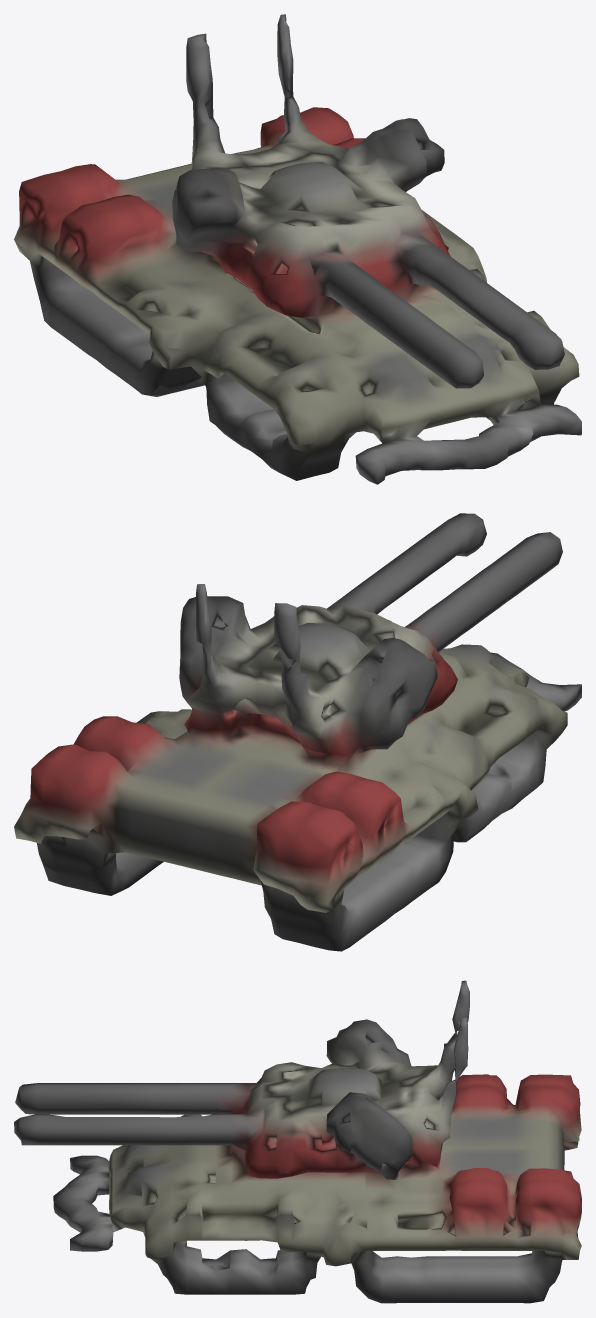
File: apocalypse_tank.glb
3 renders of one model, top to bottom at view 1: azimuth 30°, elevation 25°; view 2: azimuth 150°, elevation 25°; view 3: azimuth 270°, elevation 25°, orthographic. The views are drawn at different scales.
Visible parts, largest first — view 1: apocalypse_tank; view 2: apocalypse_tank; view 3: apocalypse_tank.
Boxes of the visible parts, x1,y1,x2,y2 form: apocalypse_tank: (14,14,581,484); apocalypse_tank: (14,513,581,951); apocalypse_tank: (14,980,581,1303).
Bounding box in the file's own units: 2.65 × 2.34 × 4.89.
